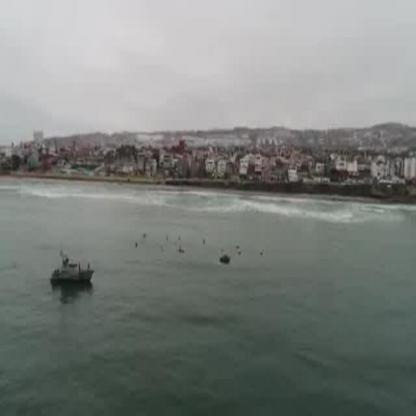Boat: (50, 247, 96, 294)
